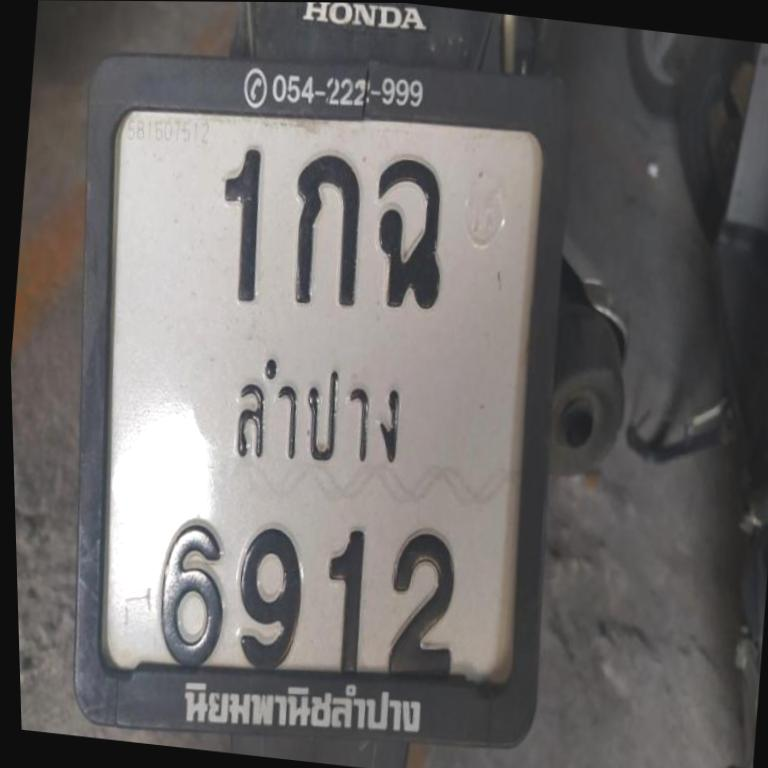license plate: (21, 15, 609, 768)
